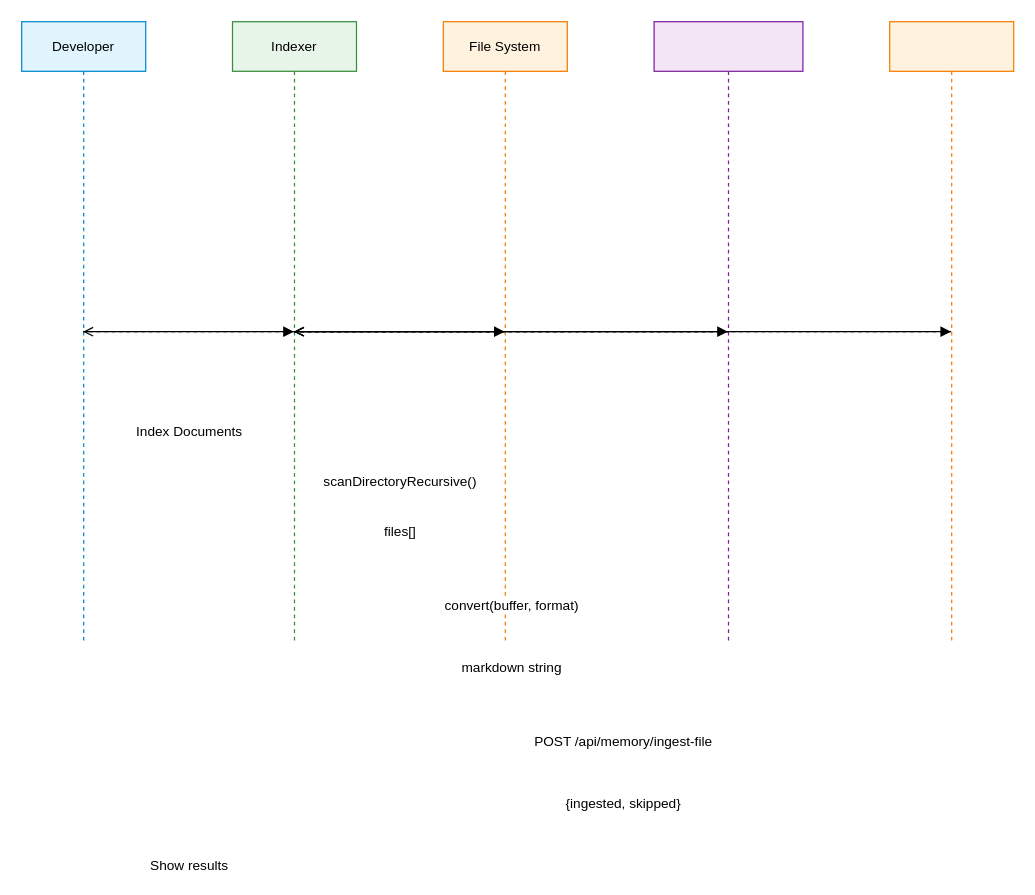
The diagram is 1035 pixels wide and 895 high, and some of its shapes have lost their labels. Each missing label, with the box of its shape:
filetomarkdown: (653, 20, 803, 642)
MCP Server: (888, 20, 1014, 642)
